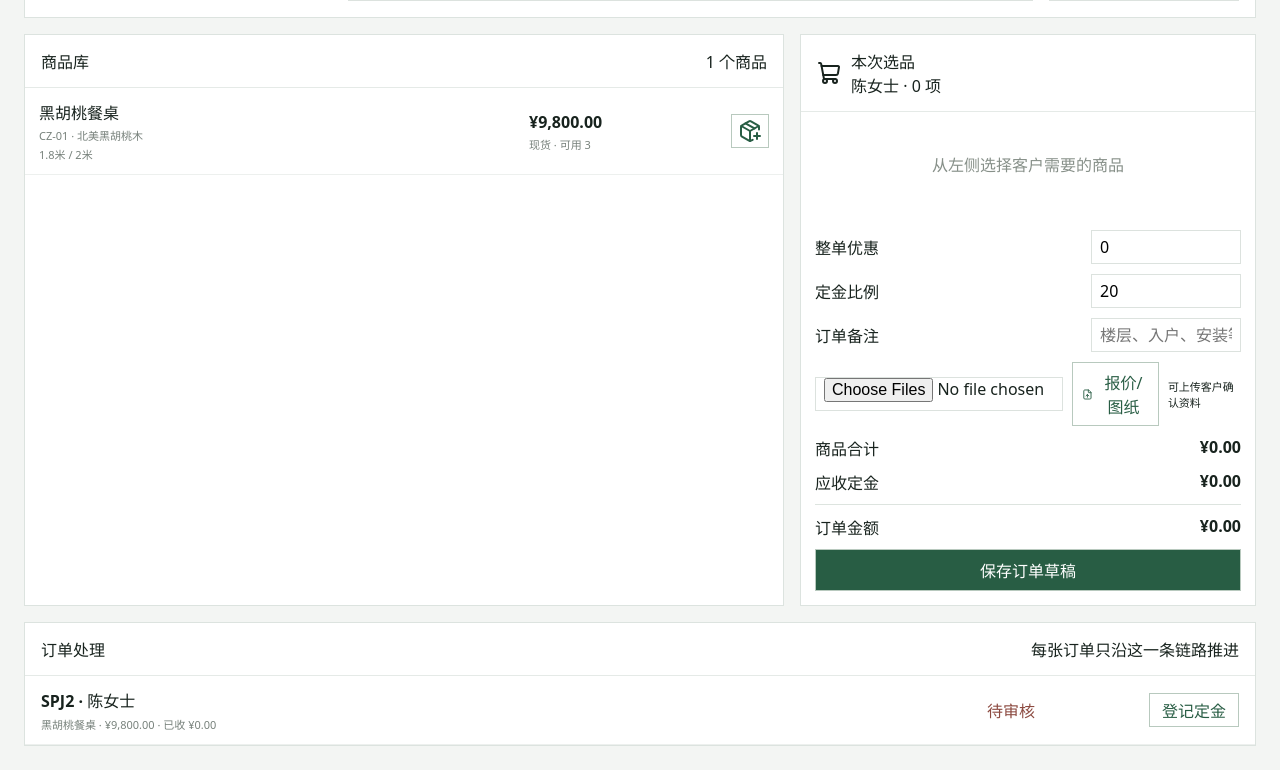
Test: OrderWorkspacePage › shows deposit collection instead of approval when required deposit is unpaid
The image size is (1280, 770).
(page scrolled)
Click the button "登记定金": coordinates (1194, 710) [1149, 693, 1239, 727]
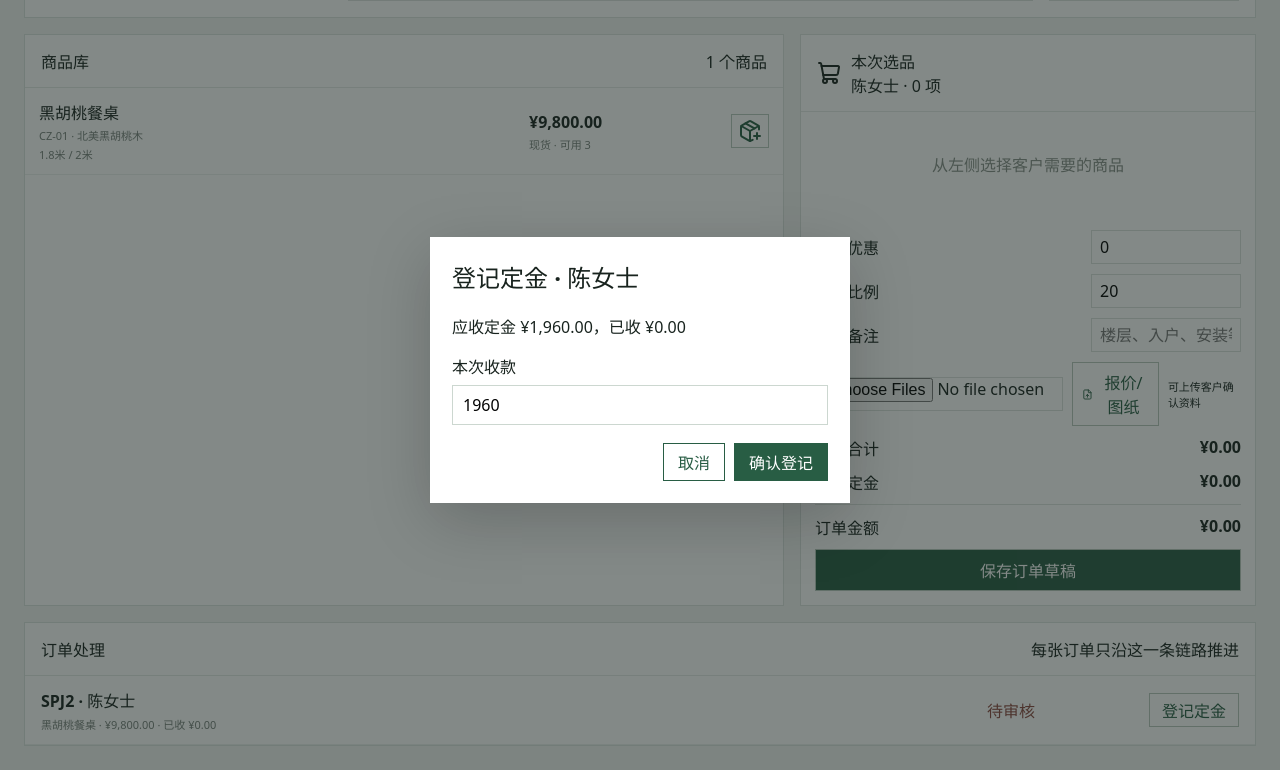
Expected: the dialog "登记定金 · 陈女士" is shown, [430, 237, 850, 503]
